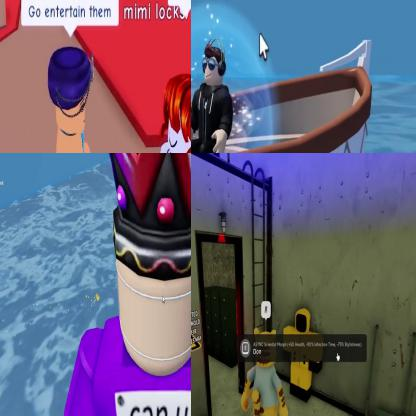Roblox-Avatar: (65, 154, 191, 416), (137, 47, 191, 153), (49, 47, 97, 153), (192, 38, 235, 153), (242, 327, 290, 416)
